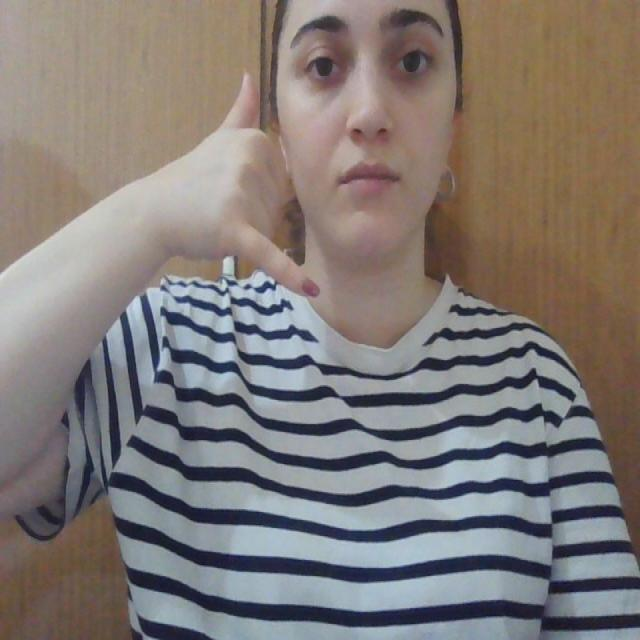Telefon: (185, 67, 323, 288)
